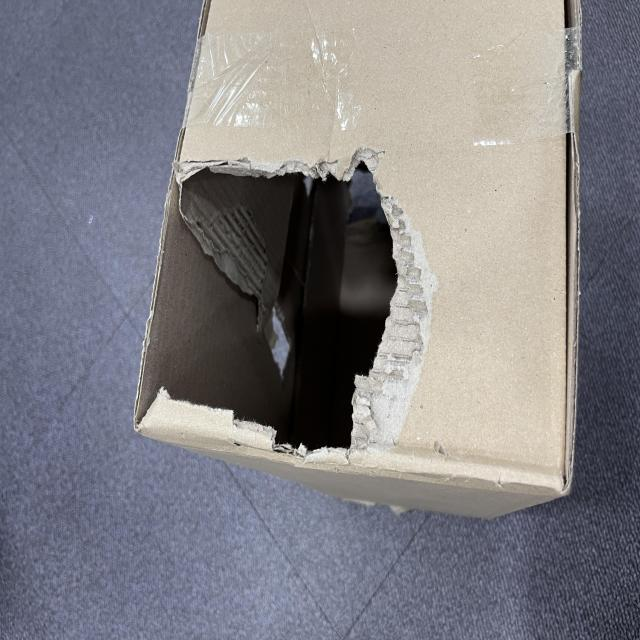damaged: (128, 180, 353, 534)
